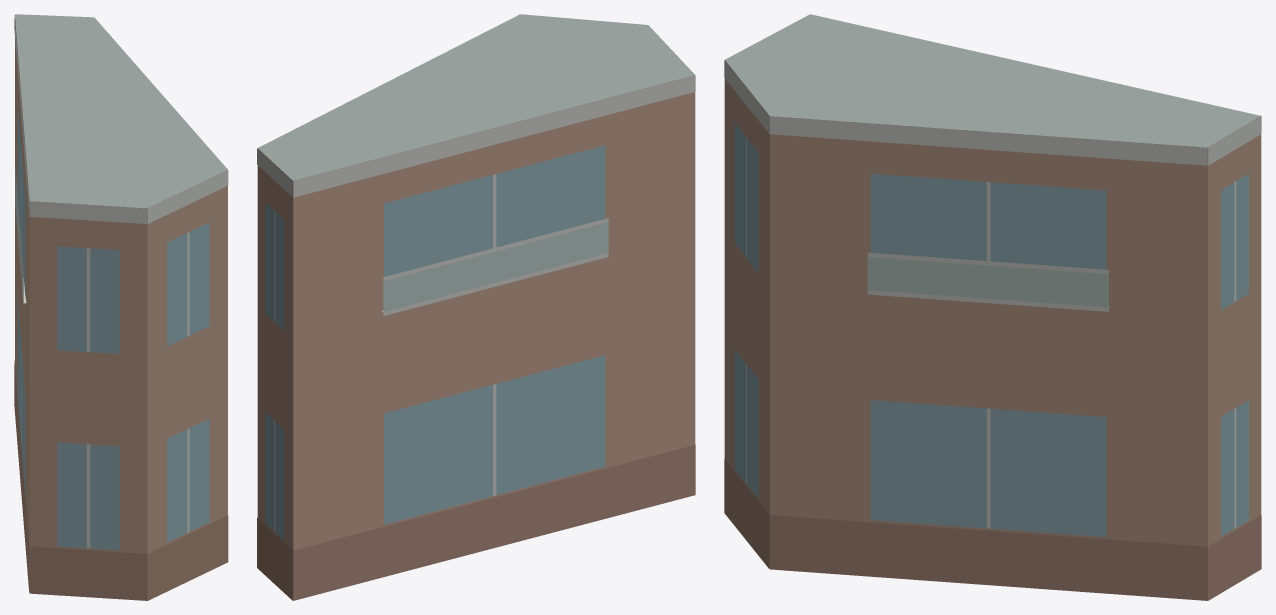
File: survey-upis-32921089.glb
3 renders of one model, left to right at view 1: azimuth 30°, elevation 25°; view 2: azimuth 150°, elevation 25°; view 3: azimuth 270°, elevation 25°, orthographic. The views are drawn at different scales.
Visible parts, largest first — view 1: survey-upis-32921089.tmp; view 2: survey-upis-32921089.tmp; view 3: survey-upis-32921089.tmp.
Part boxes in pixels (x1,y1,x2,y2): survey-upis-32921089.tmp: (14, 14, 228, 600); survey-upis-32921089.tmp: (257, 14, 695, 600); survey-upis-32921089.tmp: (724, 14, 1261, 600).
Bounding box in the file's own units: 3.87 × 6.1 × 6.56.
